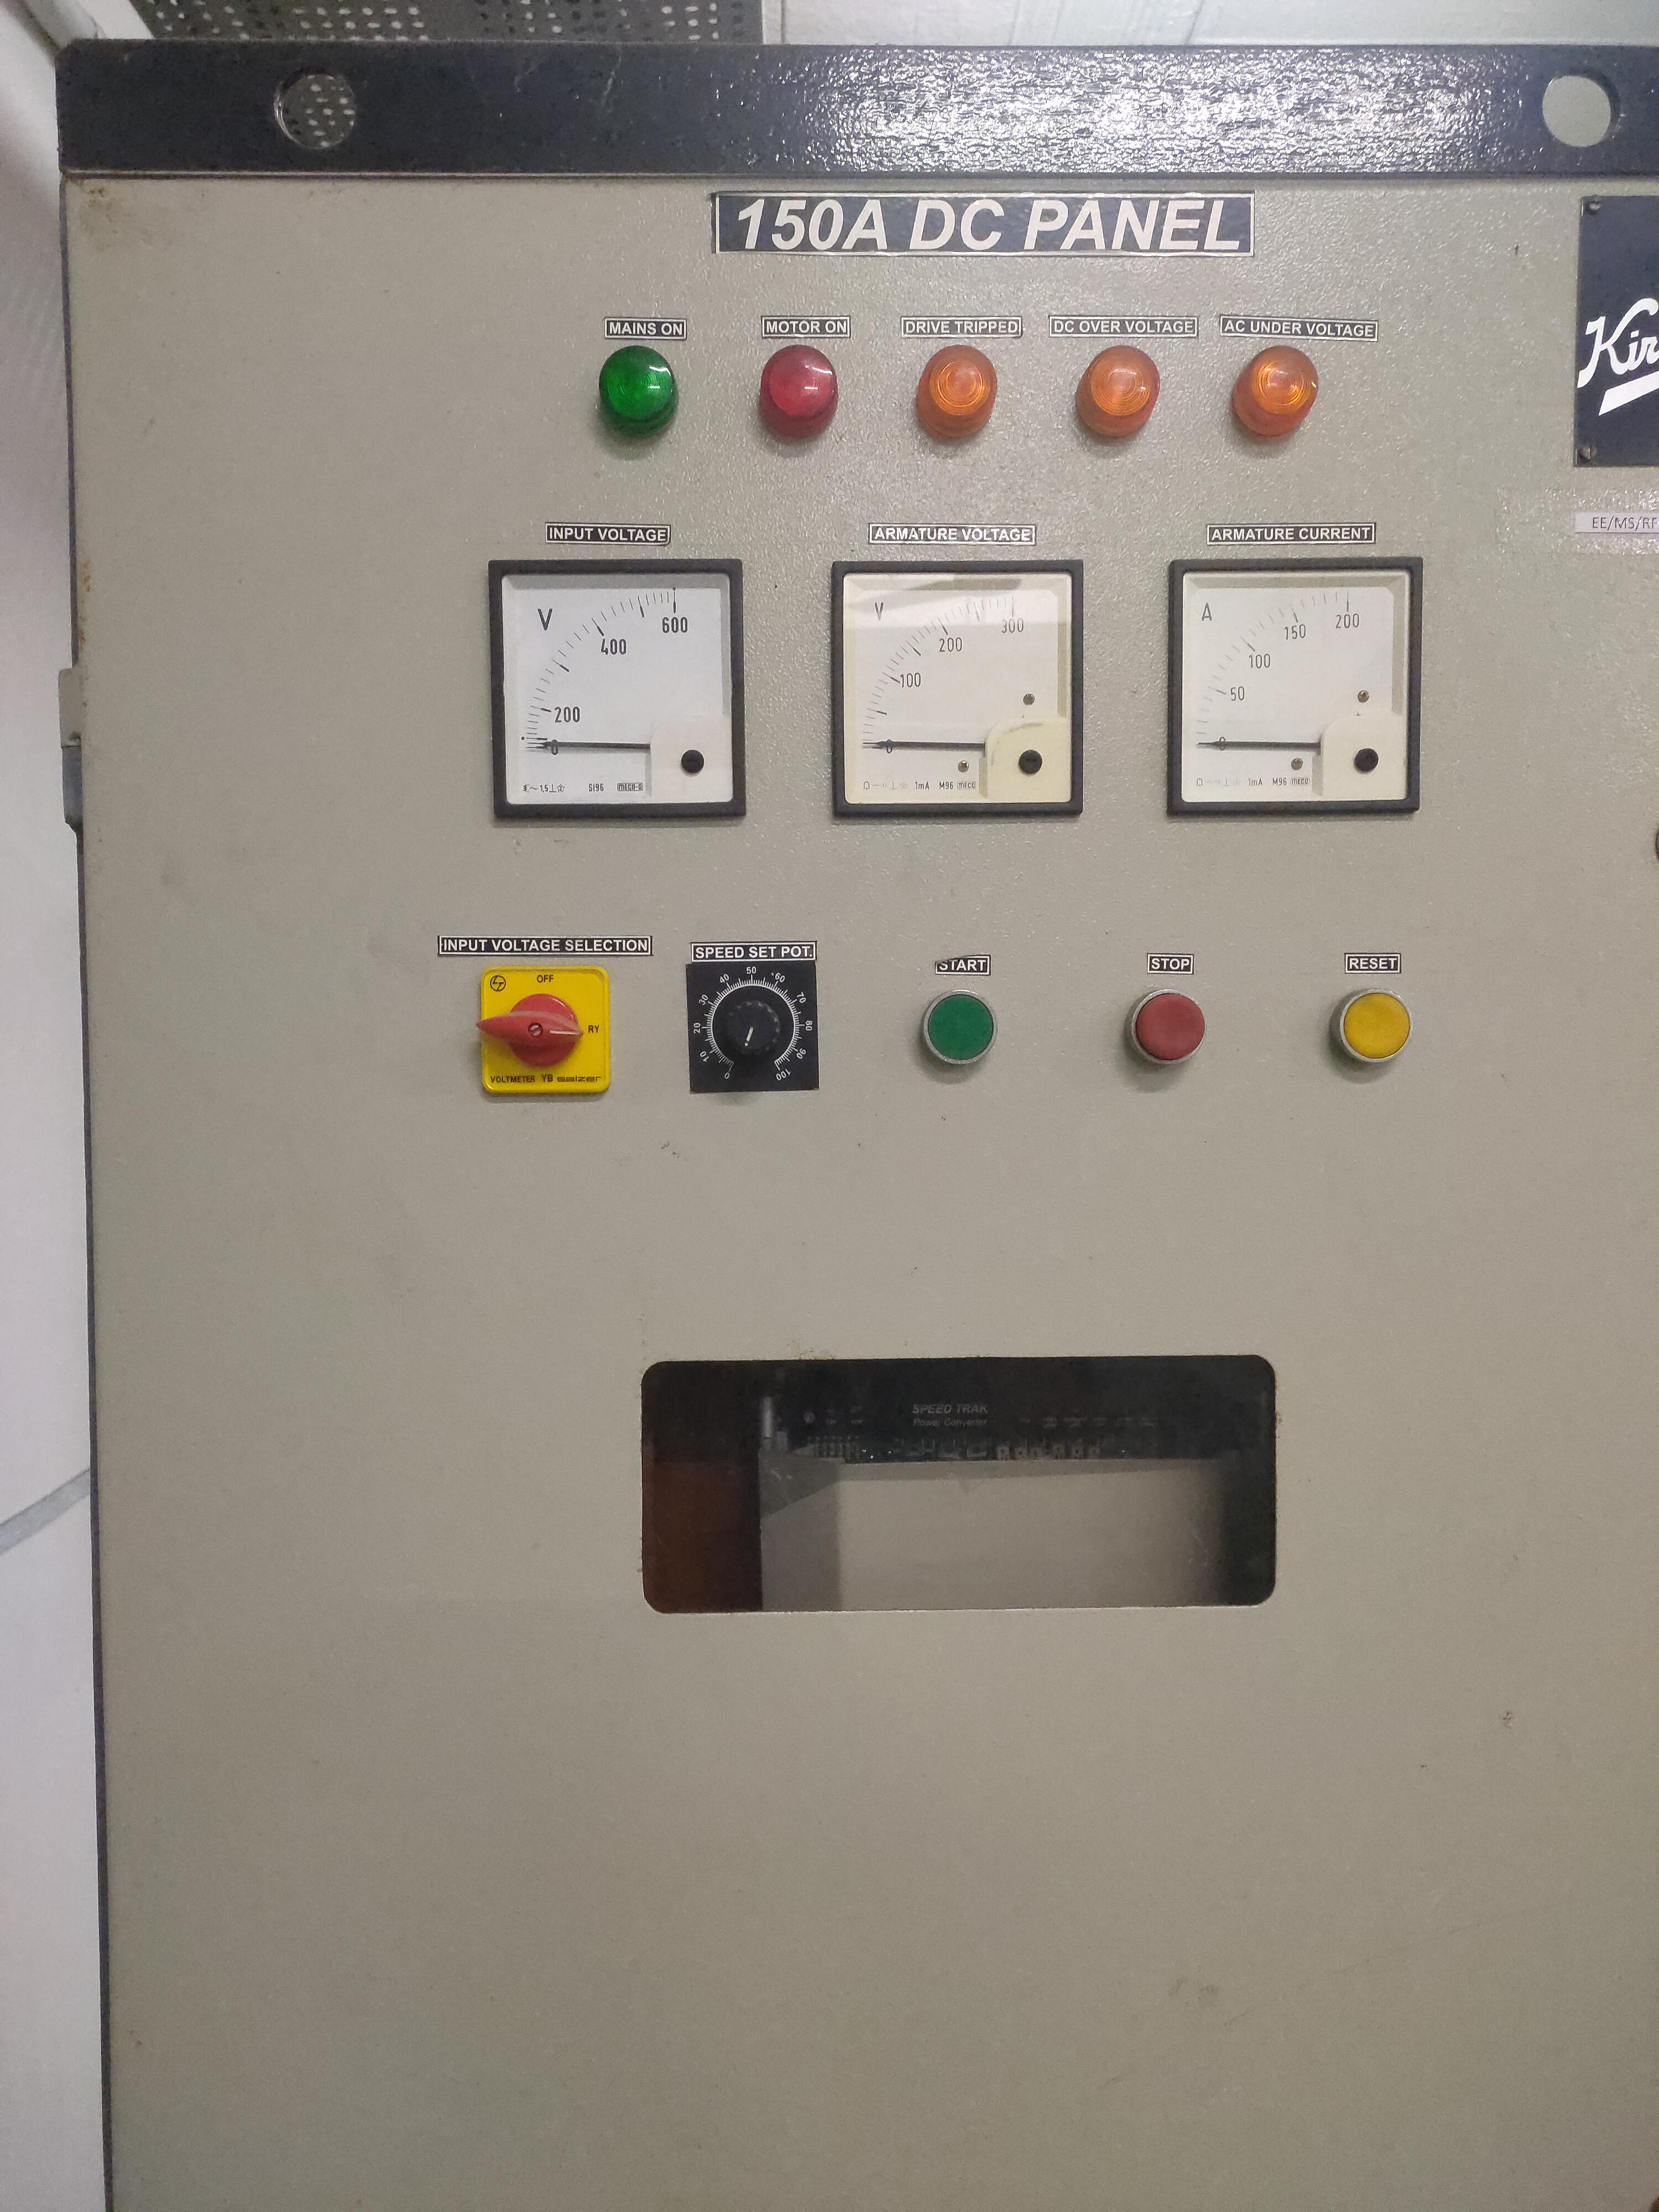Light Indications: (530, 296, 1363, 538)
